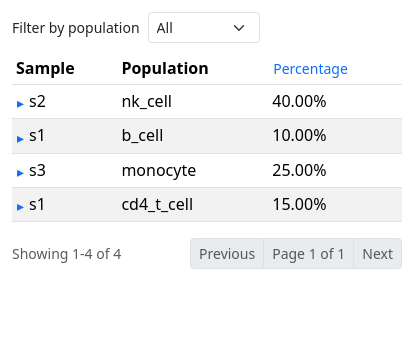
Test case: CellFrequencyTable › expands a row to reveal Count and Total Count, and collapses it back
expect the text "Count: 10" is not shown: met
Click the button named "Expand details for s1 b_cell".
click(20, 137)  # box [16,126,25,149]
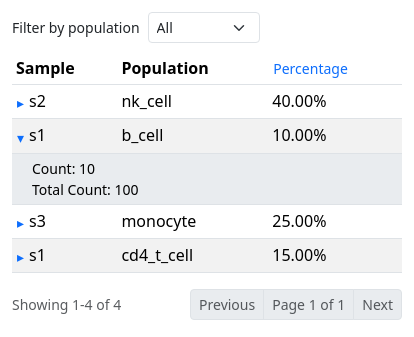
expect the text "Count: 10" is shown: met, box [32,159,95,178]
expect the text "Total Count: 100" is shown: met, box [32,180,138,199]
Click the button named "Collapse details for s1 b_cell".
click(20, 137)  # box [16,126,25,149]
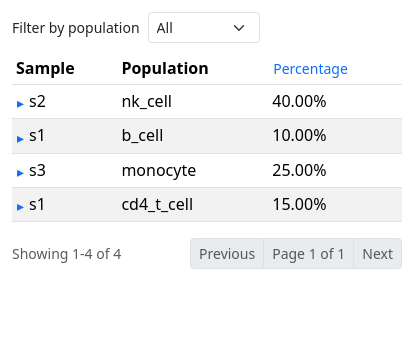
expect the text "Count: 10" is gone: met
